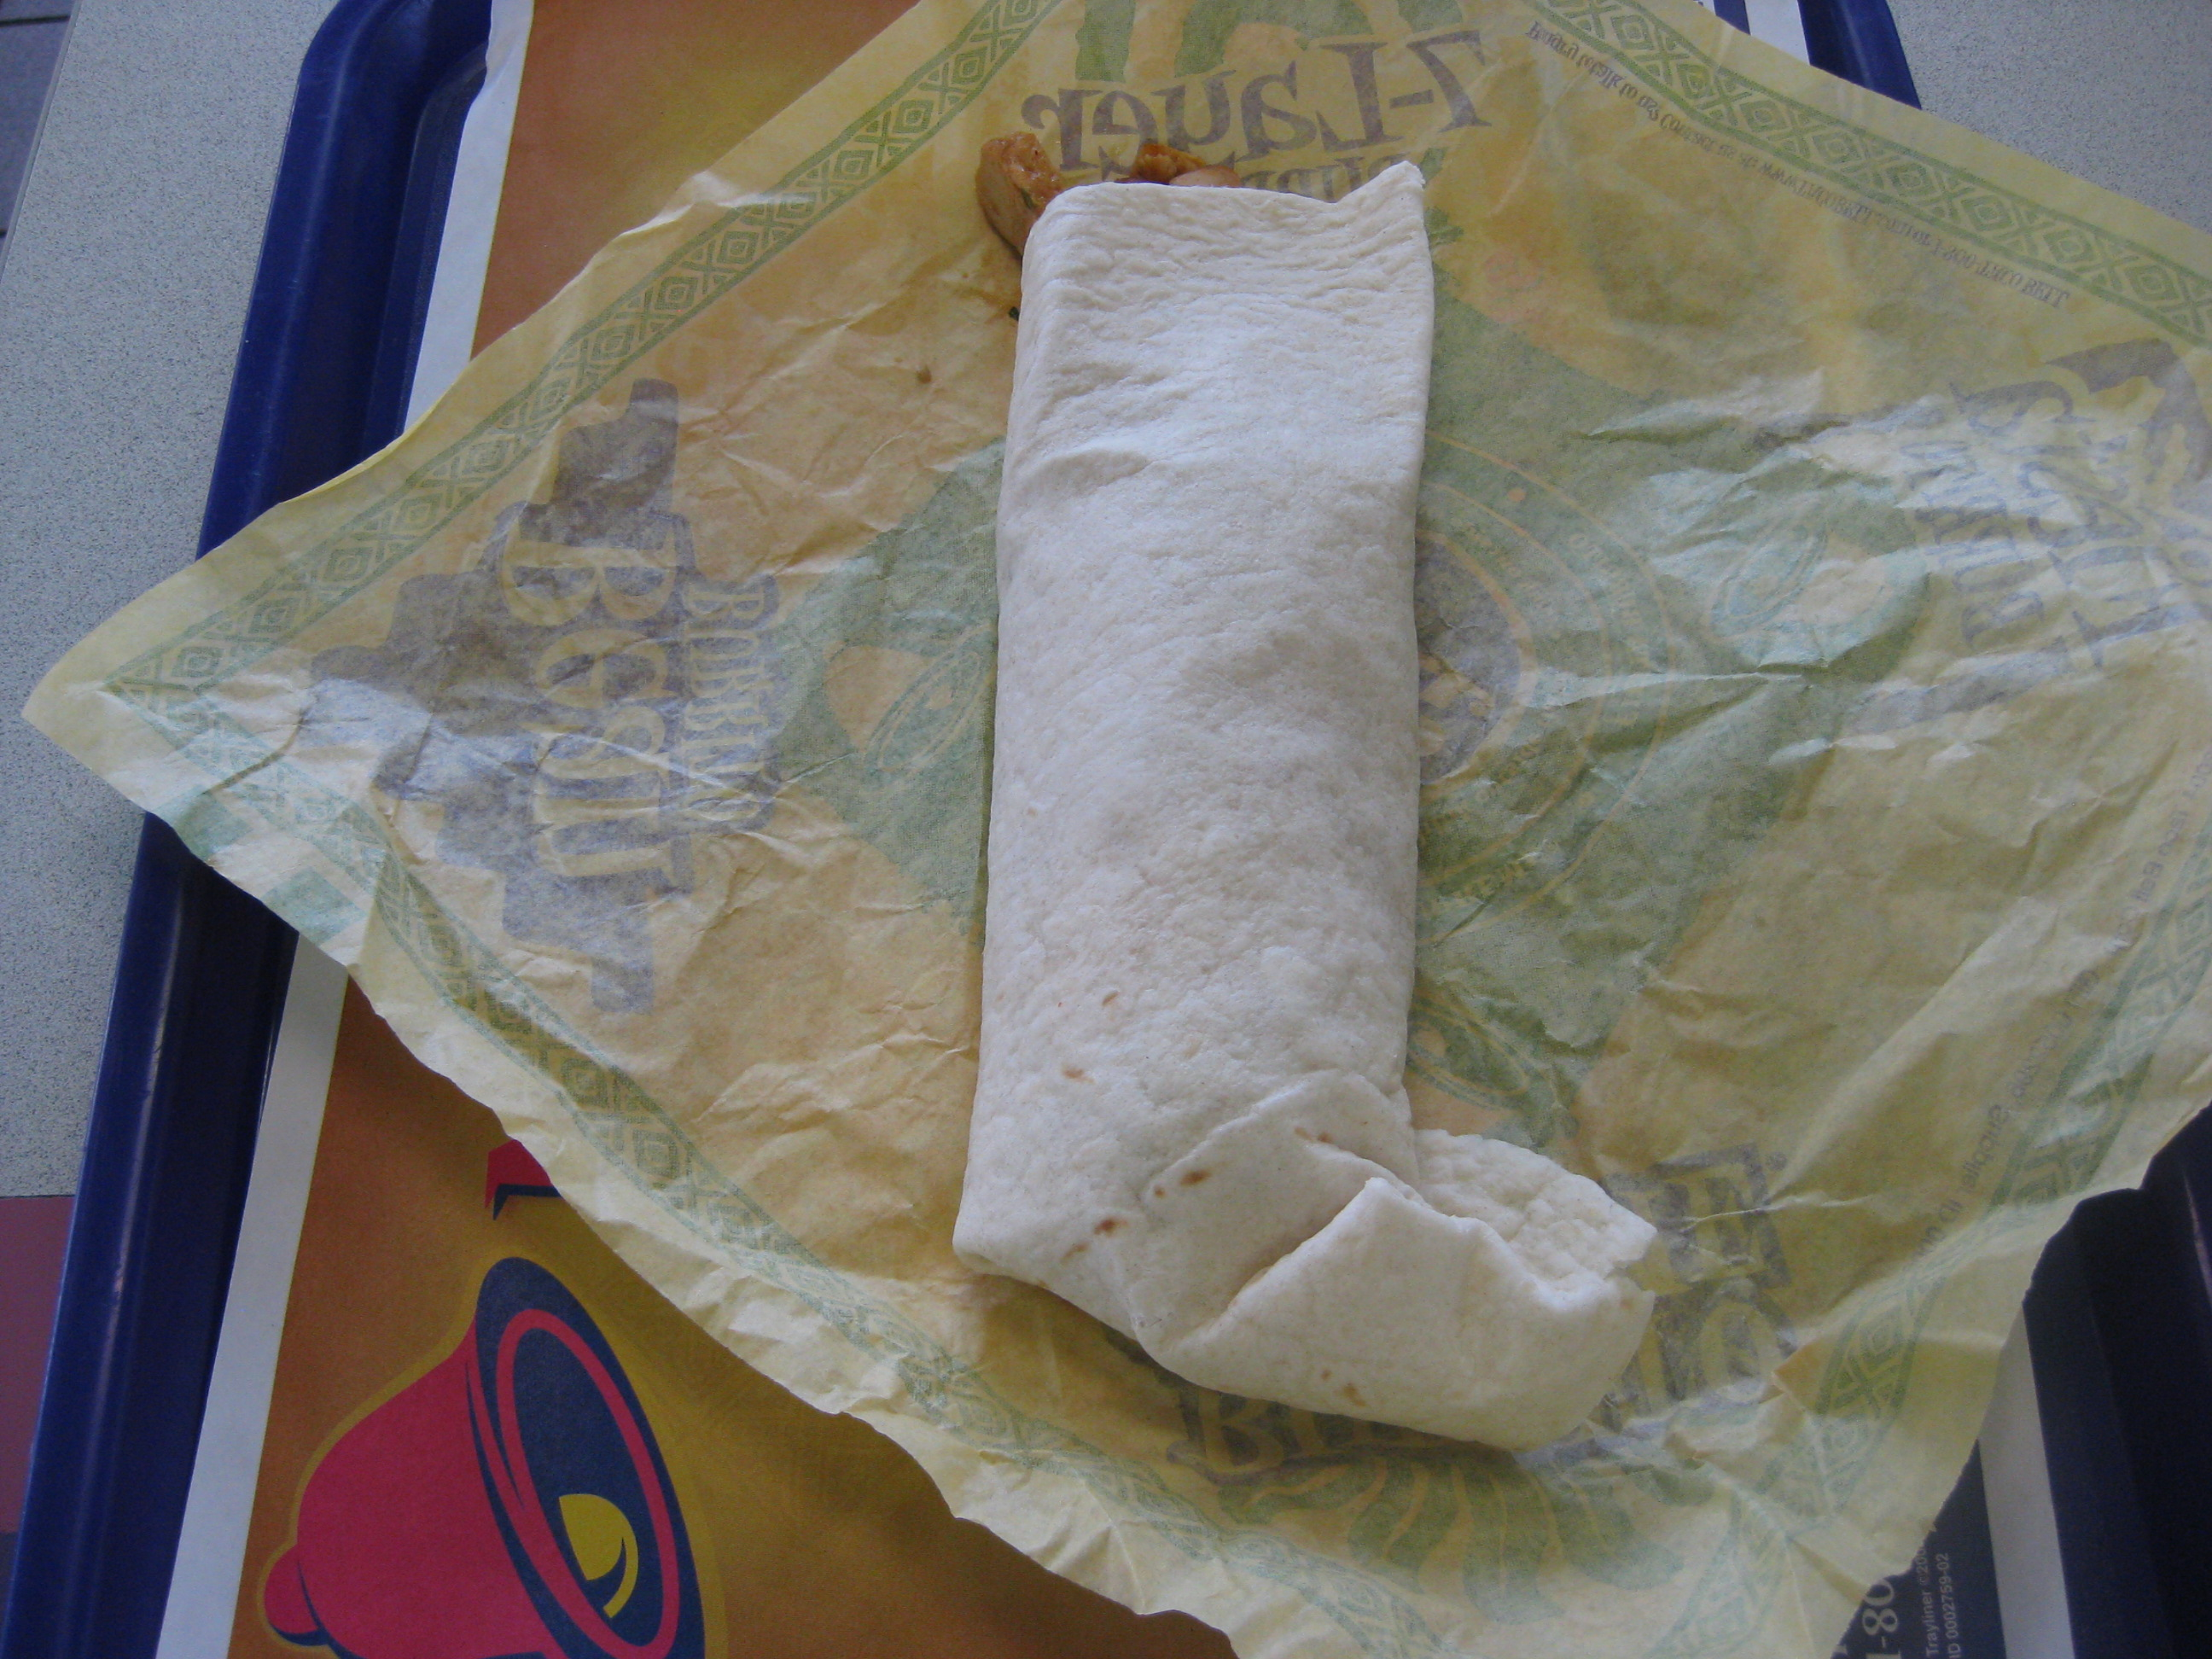burrito: (908, 97, 1794, 1572)
